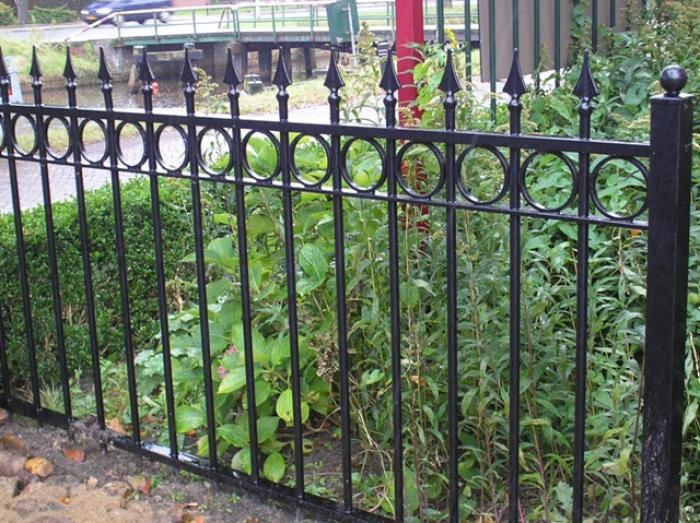obstacle: (174, 147, 558, 387)
